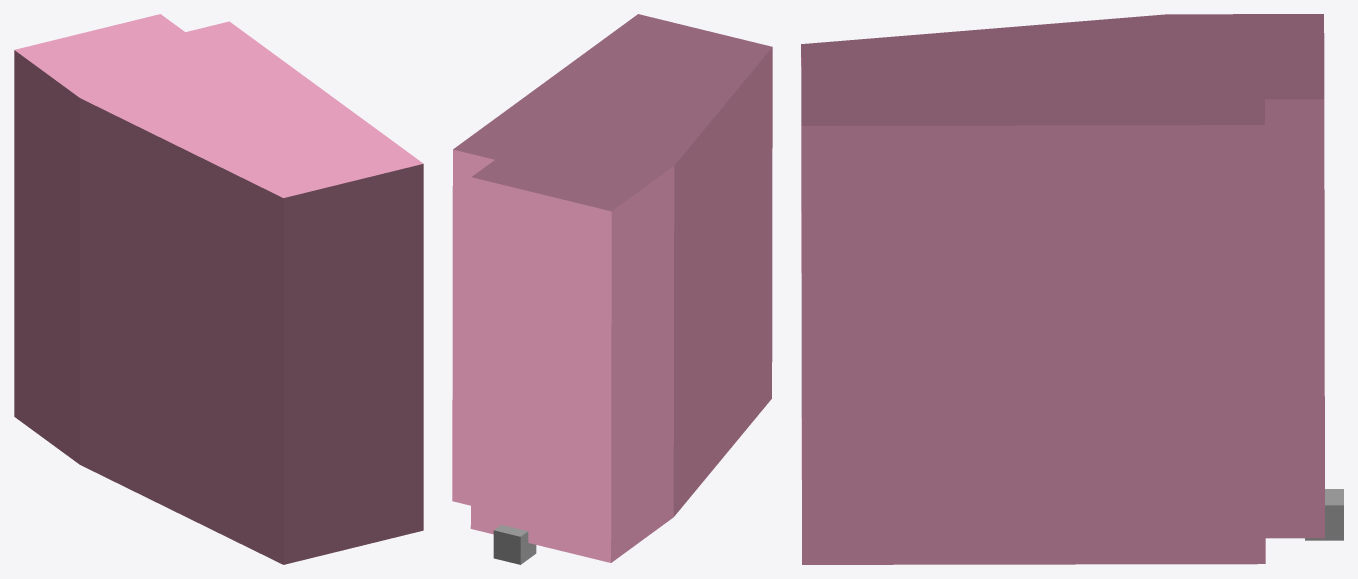
Rendered from pinsa.obj.
3 renders of one model, left to right at view 1: azimuth 30°, elevation 25°; view 2: azimuth 150°, elevation 25°; view 3: azimuth 270°, elevation 25°, orthographic. The views are drawn at different scales.
Visible parts, largest first — view 1: GDL4_OT; view 2: GDL4_OT, Cube; view 3: GDL4_OT, Cube.
Part boxes in pixels (left/top/right/bottom): GDL4_OT: left=14, top=14, right=423, bottom=564; GDL4_OT: left=452, top=14, right=772, bottom=562; Cube: left=493, top=525, right=536, bottom=564; GDL4_OT: left=801, top=14, right=1324, bottom=564; Cube: left=1305, top=489, right=1343, bottom=540.
Size of the model in its own units: 13.63 by 26.18 by 28.02.
